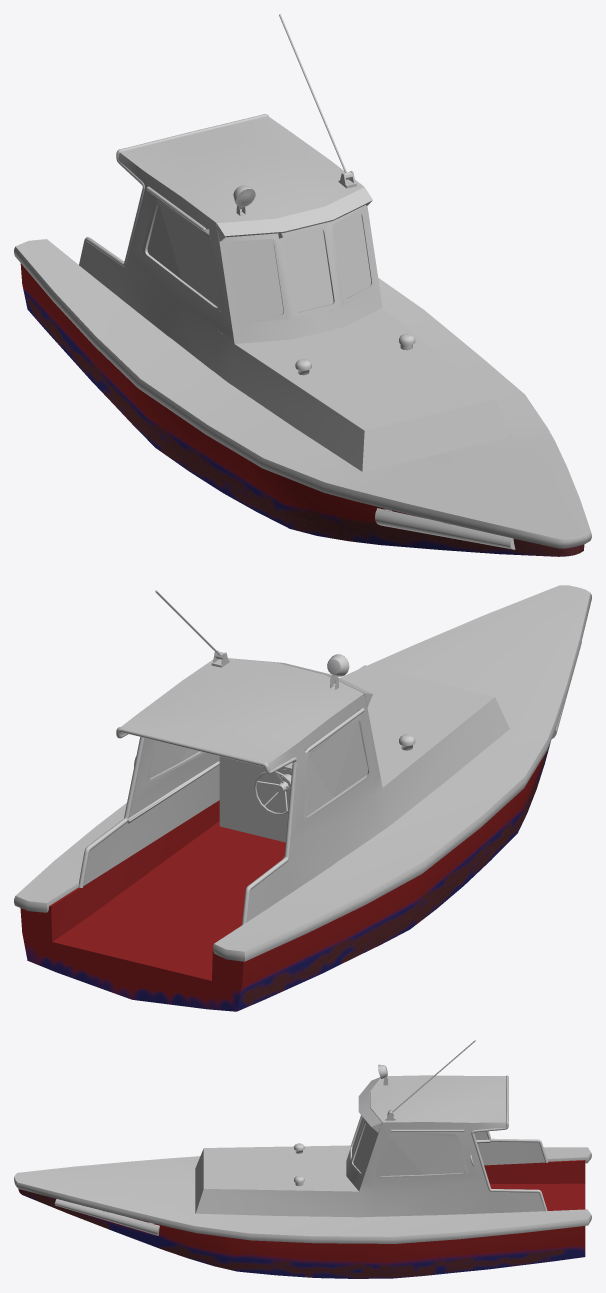
File: ship.fbx
3 views of the same model, one above another, from view 1: azimuth 30°, elevation 25°; view 2: azimuth 150°, elevation 25°; view 3: azimuth 270°, elevation 25° (orthographic). The views are drawn at different scales.
Parts seen in each view (by area): view 1: ship1; view 2: ship1; view 3: ship1.
Part boxes in pixels (bbox=[...]): ship1: bbox=[14, 14, 591, 556]; ship1: bbox=[14, 585, 591, 1011]; ship1: bbox=[14, 1040, 591, 1278].
Size of the model in its own units: 4.36 by 5.32 by 11.89.
